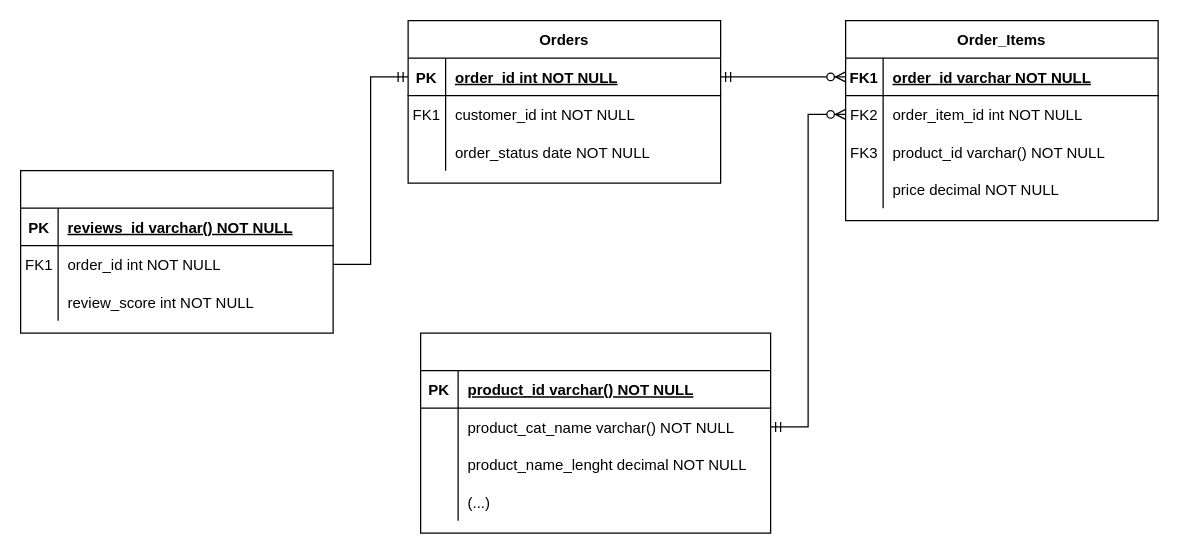
This 1179x554 diagram has some shape labels left out. Here are the shapes that lost their labels. From the top down, the box of each, then its label:
(19, 169, 333, 333): Order Reviews
(419, 332, 771, 533): Products
